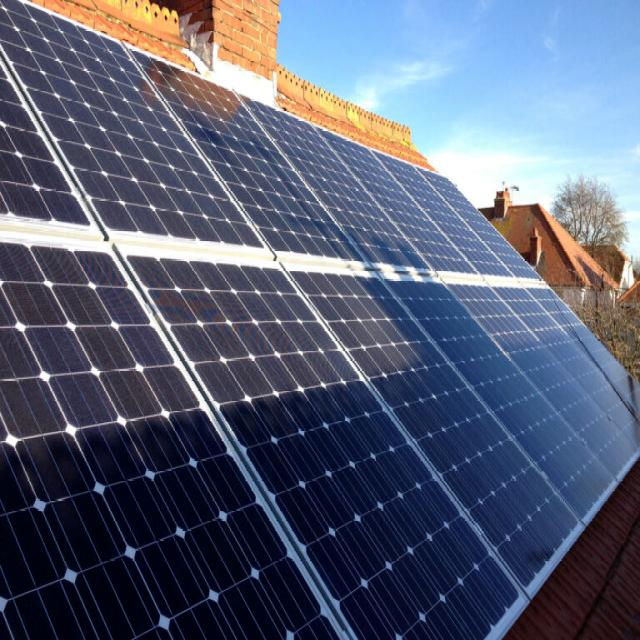crack: (0, 228, 640, 640), (2, 6, 602, 362)
